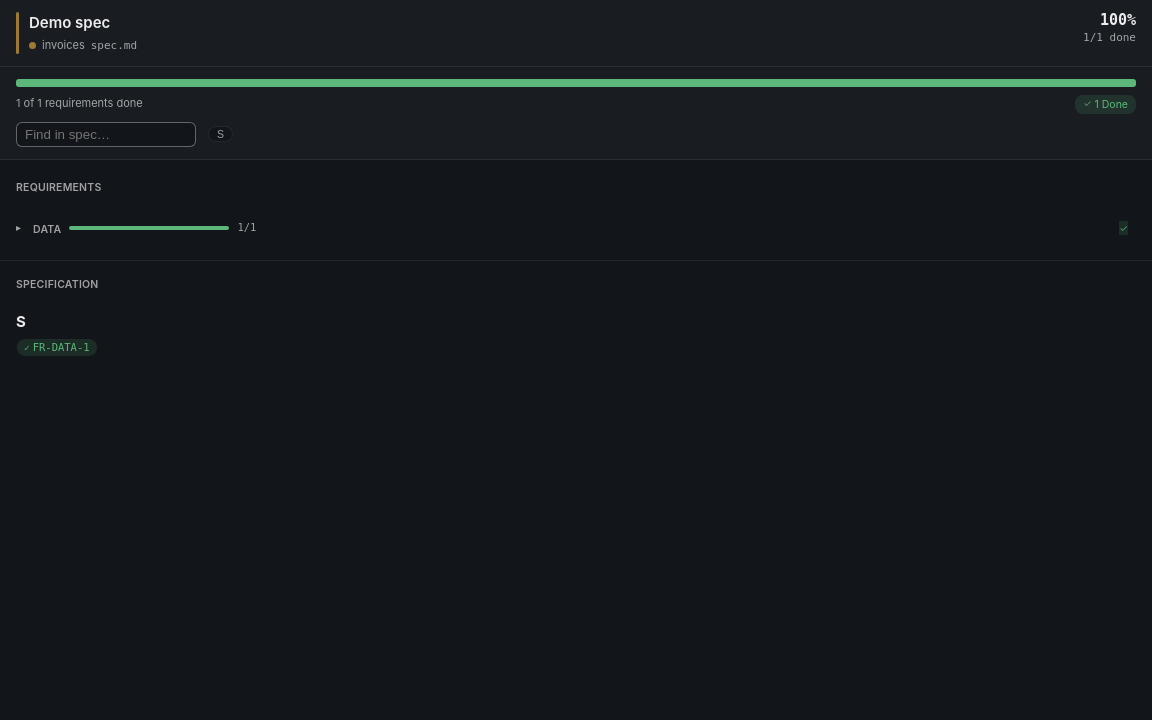
it: SpecDetail roll-up + chip-as-expander › resolves the per-AC reviewer finding from slices via sliceId
Click the button with class "spec-family-head" at (149, 228), box [12,211,1132,244]
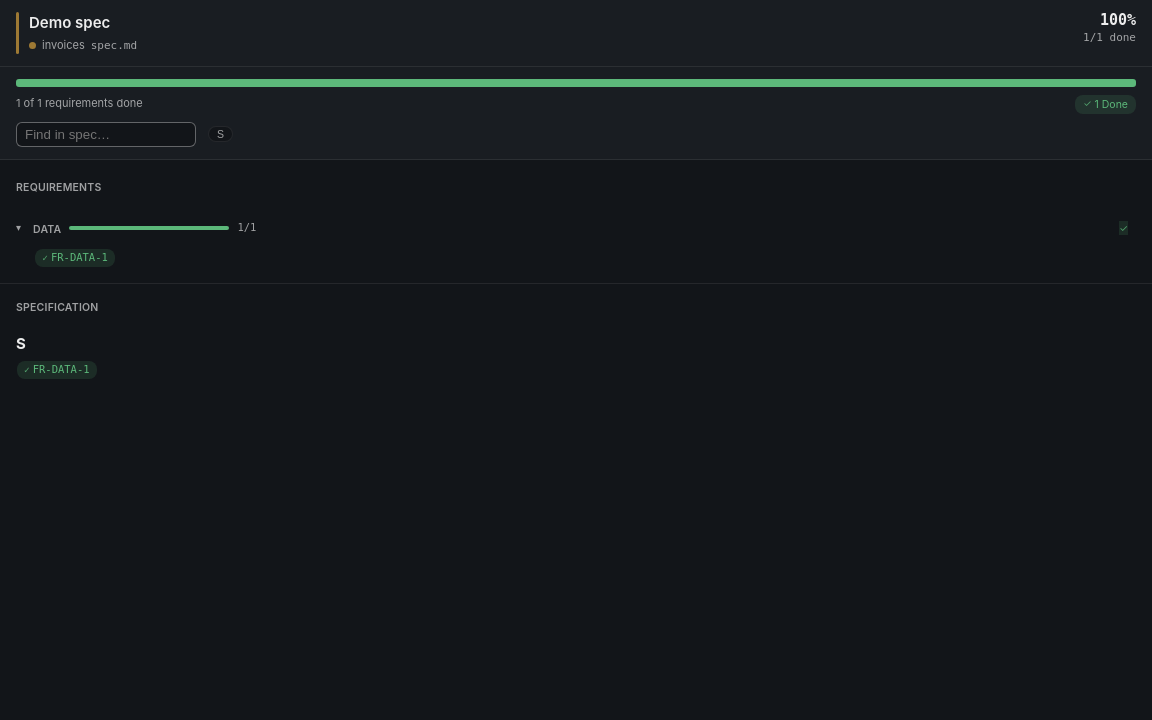
Click the 1st button "✓ FR-DATA-1" at (75, 258), box [35,249,115,267]
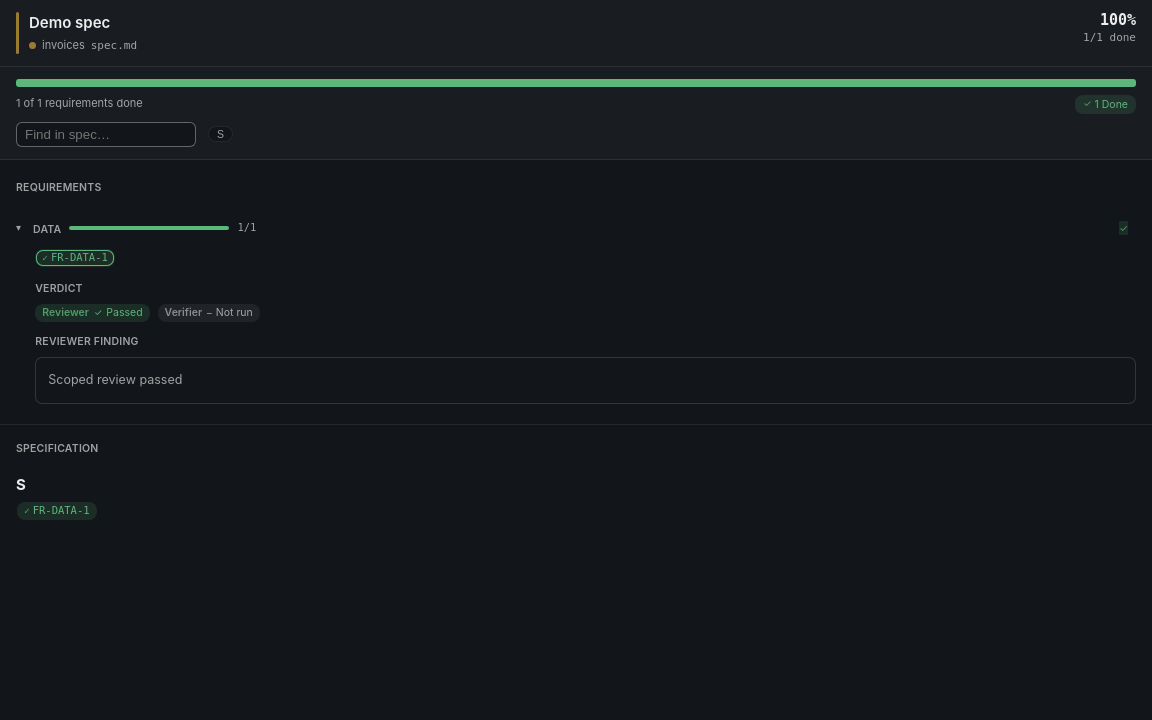
expect the text "Scoped review passed" is shown: met, box [48,372,182,387]
expect the text "Reviewer finding" is shown: met, box [35,334,139,348]
